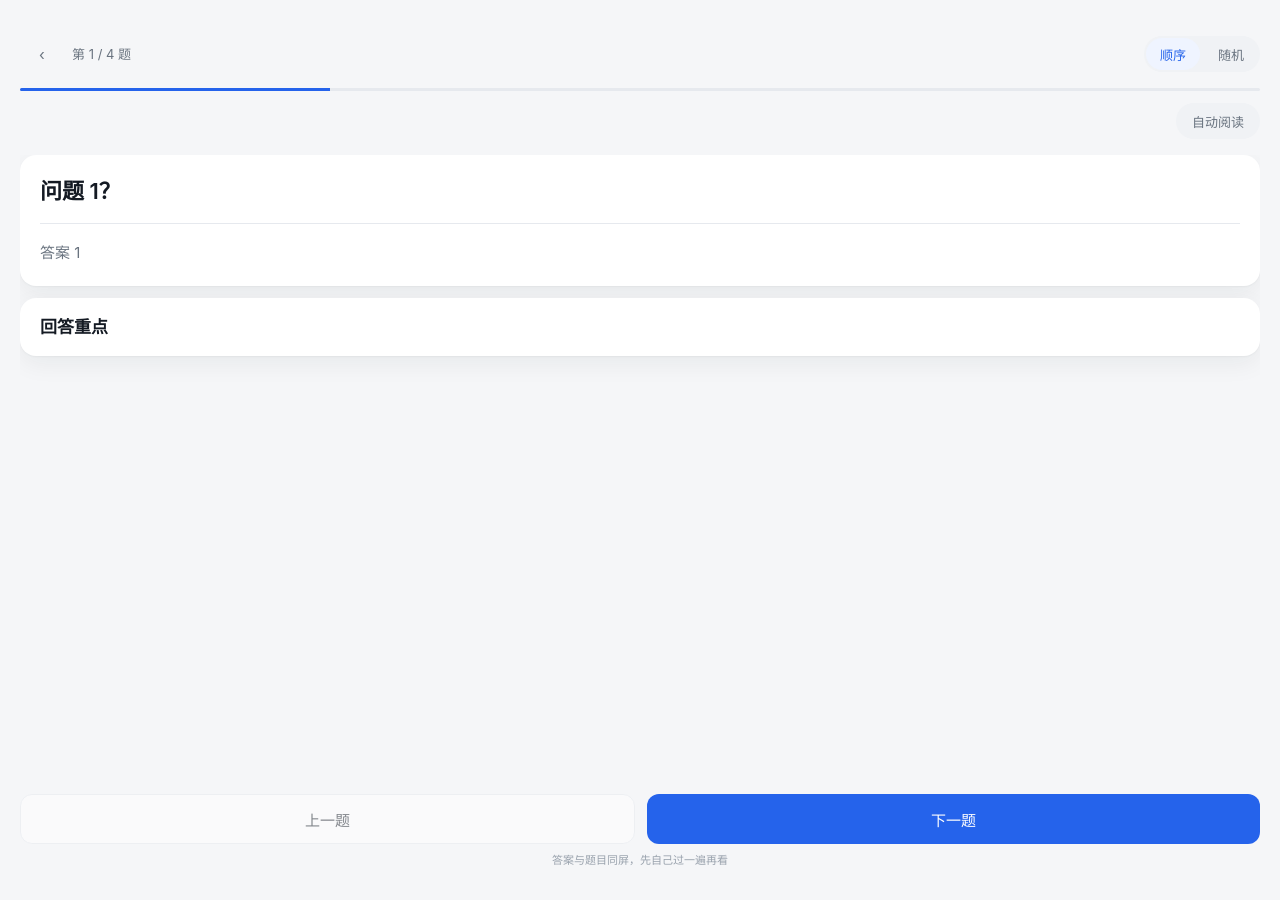
Recite · 自动阅读 › 「连播」开关只在自动阅读打开后才出现
The width and height of the screenshot is (1280, 900).
Expected: the text "问题 1？" is shown, 40,178 -> 121,204
Expected: the switch labelled "连播" is not shown
Click the switch labelled "自动阅读" at coordinates (1218, 121), box 1178,105 -> 1258,137
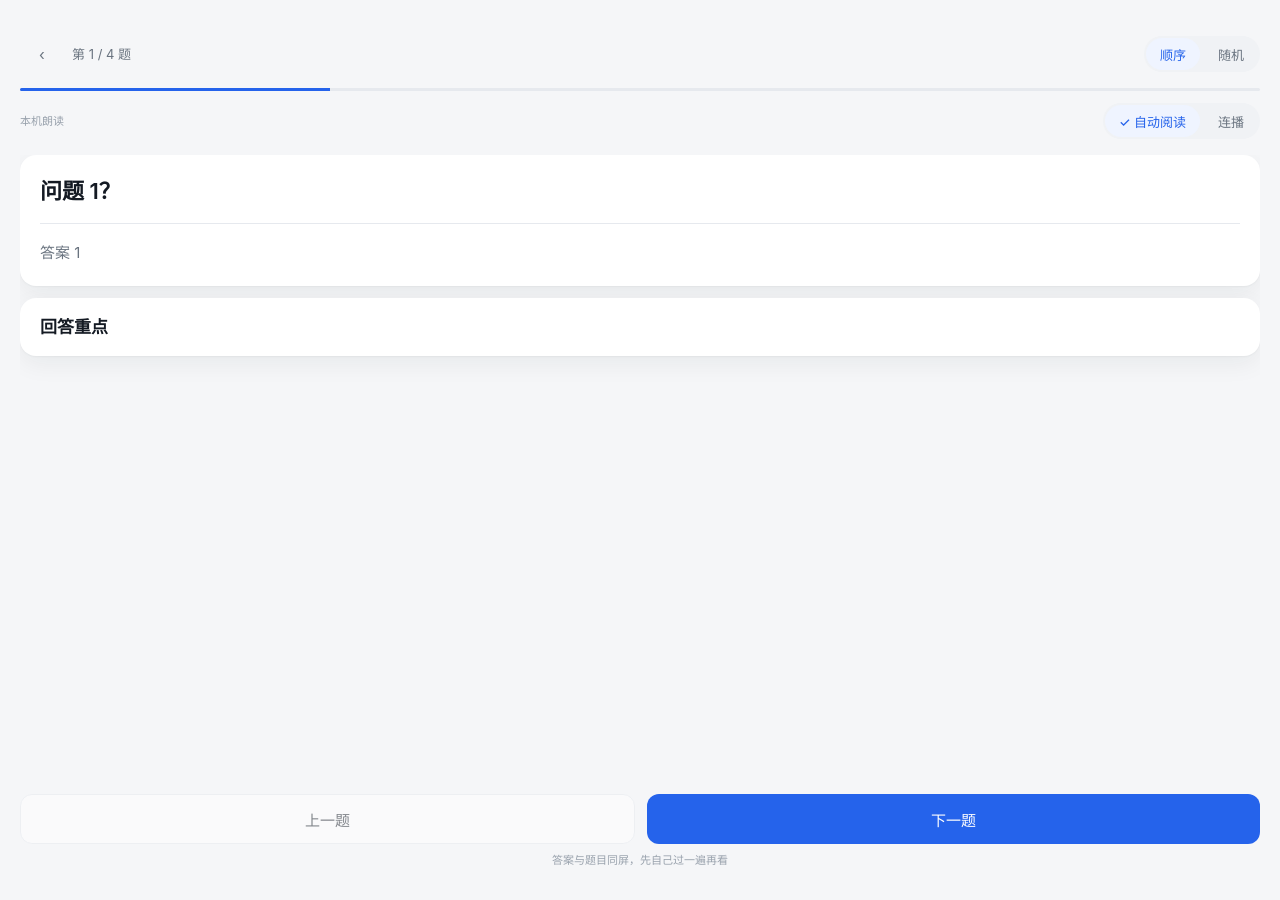
Expected: the switch labelled "连播" is shown, 1204,105 -> 1258,137
